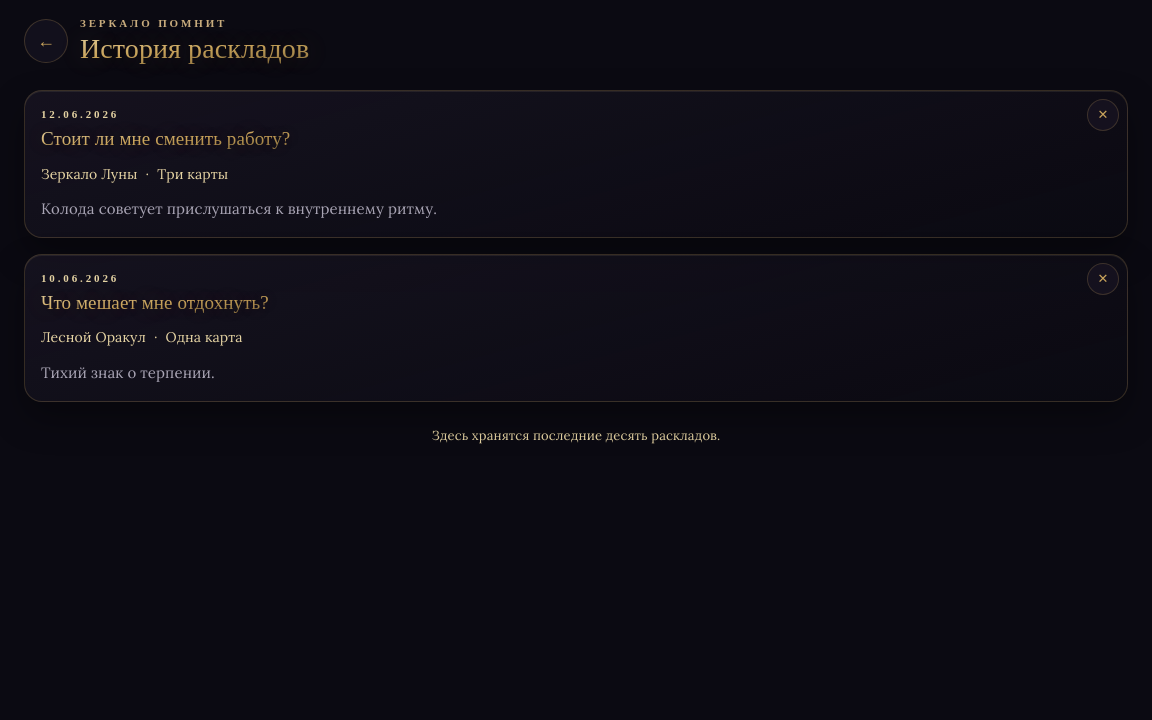
it: deleting a reading optimistically removes it from the list and shows the undo snackbar — HIST-04
This screenshot has width=1152, height=720.
Expected: the text "Стоит ли мне сменить работу?" is shown, [41, 127, 290, 151]
Expected: the text "Что мешает мне отдохнуть?" is shown, [41, 291, 269, 314]
// Trigger delete on the FIRST card via its accessible delete button (the swipe's twin).
Click the button named "Убрать расклад из истории" at (1103, 115), box [1087, 99, 1119, 131]
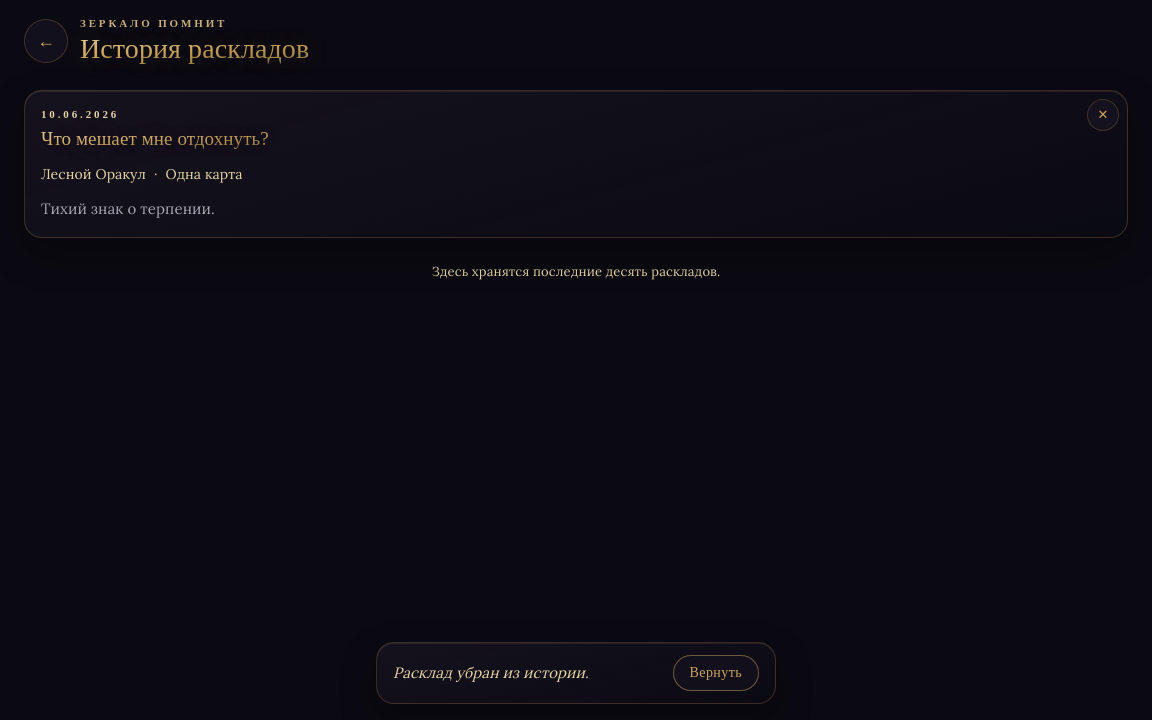
Result: the button "Стоит ли мне сменить работу?" is gone
Result: the text "Расклад убран из истории." is shown at [393, 661, 589, 685]
Result: the button "Вернуть" is shown at [672, 655, 759, 691]
